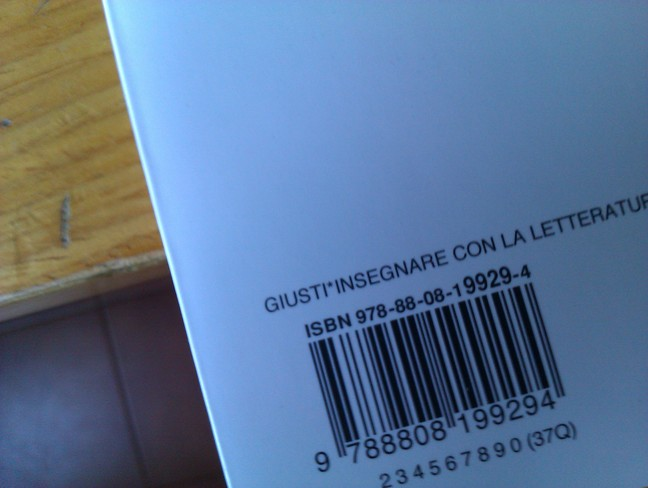detection: (261, 275, 594, 484)
